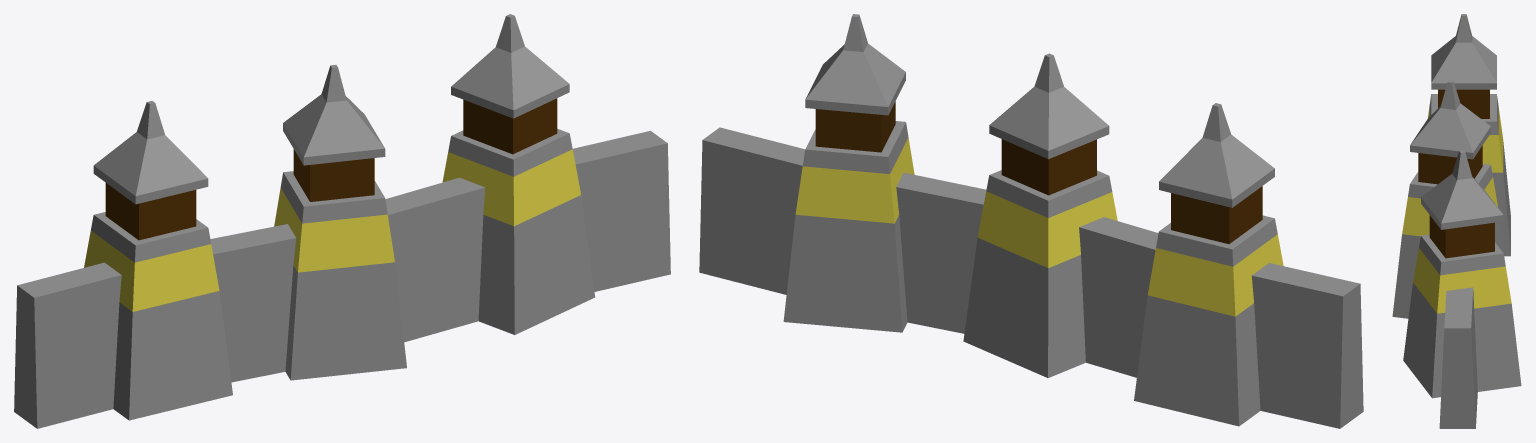
File: SM_TilePlayerWall.fbx
3 renders of one model, left to right at view 1: azimuth 30°, elevation 25°; view 2: azimuth 150°, elevation 25°; view 3: azimuth 270°, elevation 25°, orthographic. The views are drawn at different scales.
Parts seen in each view (by area): view 1: TilePlayerWall; view 2: TilePlayerWall; view 3: TilePlayerWall.
Boxes of the visible parts, bbox=[...] form: TilePlayerWall: bbox=[14, 14, 670, 428]; TilePlayerWall: bbox=[699, 14, 1363, 428]; TilePlayerWall: bbox=[1392, 14, 1521, 428].
Size of the model in its own units: 590 by 252 by 133.
